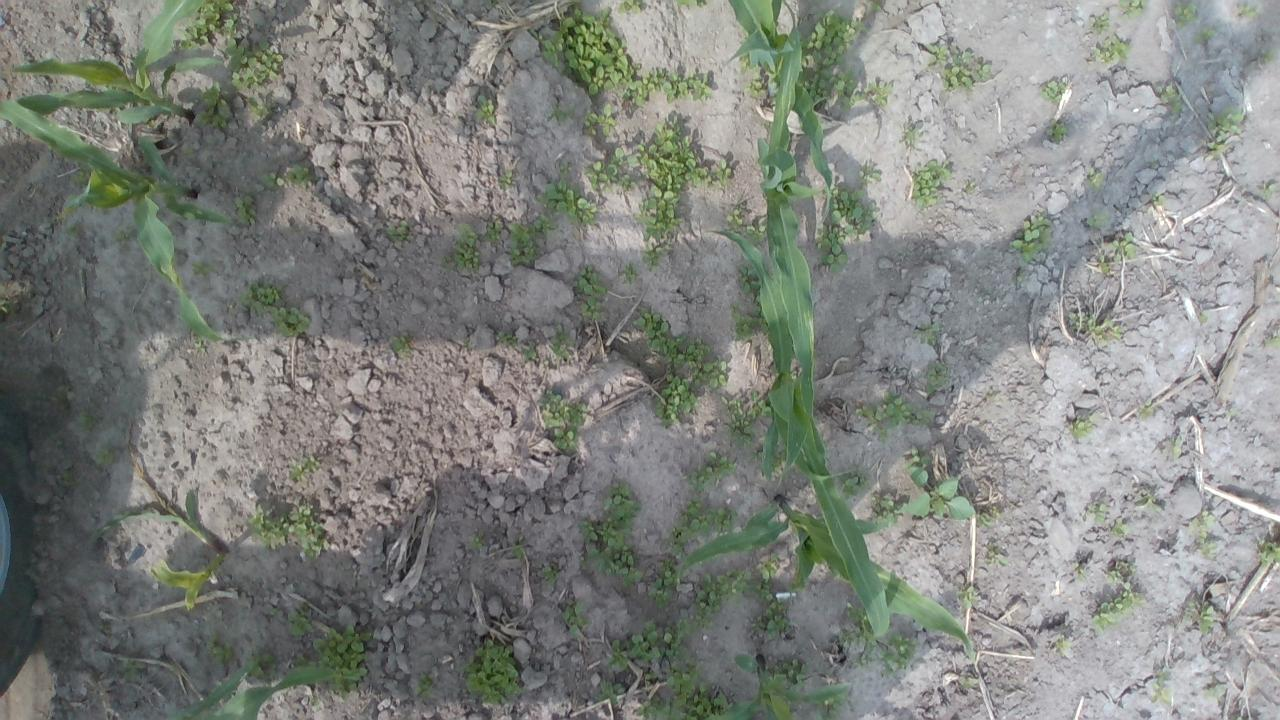Maize: (703, 222, 891, 636), (0, 92, 229, 343), (669, 494, 980, 664), (756, 0, 820, 450), (0, 0, 221, 127), (728, 0, 836, 225), (84, 490, 230, 618), (162, 661, 366, 720), (705, 652, 851, 720)
Weeds: (632, 117, 712, 242), (538, 3, 641, 98), (577, 481, 644, 588), (640, 662, 734, 720), (310, 622, 372, 702), (632, 309, 712, 368), (246, 503, 330, 558), (236, 279, 312, 338), (606, 618, 692, 670), (668, 499, 738, 562), (461, 638, 522, 707), (692, 566, 752, 634), (900, 466, 975, 520), (800, 8, 869, 66), (855, 392, 933, 442), (170, 0, 239, 52), (925, 40, 991, 94), (629, 65, 714, 106), (222, 37, 284, 91), (721, 390, 773, 450), (798, 68, 864, 114), (540, 387, 586, 450), (536, 180, 598, 225), (839, 601, 879, 670), (824, 185, 876, 238), (1092, 582, 1146, 632), (508, 214, 558, 266), (584, 146, 640, 192), (653, 373, 698, 429), (688, 452, 738, 498), (1008, 214, 1052, 263), (910, 159, 951, 208), (574, 264, 608, 322), (1204, 109, 1242, 158), (730, 294, 769, 340), (196, 81, 232, 130), (880, 632, 921, 674), (646, 559, 680, 609), (815, 224, 849, 272), (451, 222, 482, 272), (754, 601, 792, 641), (769, 657, 810, 692), (754, 553, 780, 602), (582, 102, 618, 137), (1086, 314, 1124, 346), (1090, 36, 1130, 66), (694, 360, 729, 391), (870, 495, 901, 529), (1188, 509, 1216, 544), (640, 242, 671, 273), (562, 602, 594, 632), (837, 470, 870, 499), (548, 322, 572, 360), (1108, 231, 1136, 263), (864, 79, 896, 107), (246, 94, 274, 126), (206, 631, 232, 665), (1038, 78, 1070, 105), (288, 455, 320, 481), (286, 605, 312, 637), (913, 321, 946, 346), (289, 162, 322, 187), (246, 652, 276, 679), (733, 263, 760, 293), (1156, 86, 1183, 115), (598, 678, 625, 706), (818, 693, 846, 720), (1150, 670, 1172, 704), (234, 192, 257, 224), (1068, 413, 1094, 441), (472, 95, 496, 125), (926, 362, 947, 394), (120, 656, 145, 682), (1174, 1, 1198, 28), (1106, 561, 1136, 582), (413, 669, 433, 698), (1117, 0, 1146, 20), (976, 504, 1000, 528), (743, 76, 768, 99), (546, 104, 575, 123), (1258, 542, 1280, 567), (386, 222, 412, 243), (746, 223, 770, 245), (857, 162, 881, 184), (982, 546, 1008, 566), (70, 162, 90, 188), (78, 408, 98, 434), (496, 328, 519, 350), (724, 208, 745, 232), (262, 172, 289, 190), (958, 585, 978, 609), (1198, 605, 1214, 635), (542, 562, 558, 592), (191, 259, 216, 277), (760, 464, 786, 481), (114, 223, 134, 245), (1048, 120, 1068, 142), (1136, 496, 1161, 513), (738, 51, 759, 71), (94, 444, 113, 466), (1088, 502, 1105, 526), (616, 0, 643, 15), (1054, 636, 1072, 658), (1086, 168, 1104, 190), (622, 262, 638, 286), (1070, 562, 1089, 582), (392, 334, 411, 354), (910, 446, 931, 464), (1258, 182, 1280, 199), (1088, 15, 1110, 32), (1204, 681, 1225, 698), (1108, 518, 1130, 534), (1200, 543, 1218, 562), (1136, 398, 1154, 417), (1069, 309, 1088, 327), (484, 222, 502, 241), (64, 220, 82, 238), (904, 125, 920, 145), (1239, 2, 1259, 18), (1194, 28, 1214, 44), (1172, 433, 1184, 458), (1084, 213, 1104, 228), (959, 676, 979, 690), (673, 0, 704, 9), (520, 344, 537, 360), (0, 296, 15, 314), (468, 534, 483, 552), (1097, 254, 1110, 274), (1263, 334, 1280, 349), (749, 449, 764, 466), (499, 172, 513, 190), (511, 544, 526, 560), (193, 334, 206, 352), (962, 180, 978, 194), (1262, 48, 1276, 64), (988, 384, 1001, 401), (557, 164, 571, 178), (182, 144, 194, 160), (1152, 193, 1166, 205), (266, 606, 282, 616), (1198, 311, 1209, 324), (462, 336, 473, 348), (438, 256, 448, 266), (790, 369, 797, 380), (1188, 600, 1195, 610)
